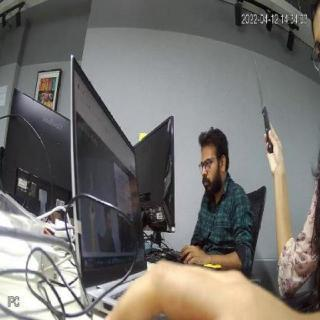knife: (253, 54, 271, 128)
